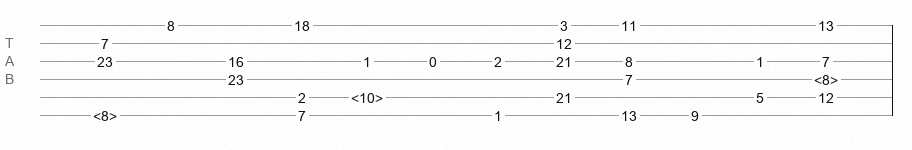0: (429, 54, 437, 64)
1: (363, 54, 371, 64), (494, 108, 502, 118), (756, 54, 764, 64)
11: (621, 18, 637, 28)
12: (556, 36, 572, 46), (818, 90, 834, 100)
13: (621, 108, 637, 118), (818, 18, 834, 28)
16: (228, 54, 244, 64)
18: (294, 18, 310, 28)
2: (298, 90, 306, 100), (494, 54, 502, 64)
21: (556, 90, 572, 100), (556, 54, 572, 64)
23: (97, 54, 113, 64), (228, 72, 244, 82)
3: (560, 18, 568, 28)
5: (756, 90, 764, 100)
7: (101, 36, 109, 46), (298, 108, 306, 118), (625, 72, 633, 82), (822, 54, 830, 64)
8: (167, 18, 175, 28), (625, 54, 633, 64)
9: (691, 108, 699, 118)
harmonic: (351, 90, 383, 100), (93, 108, 117, 118), (814, 72, 838, 82)
